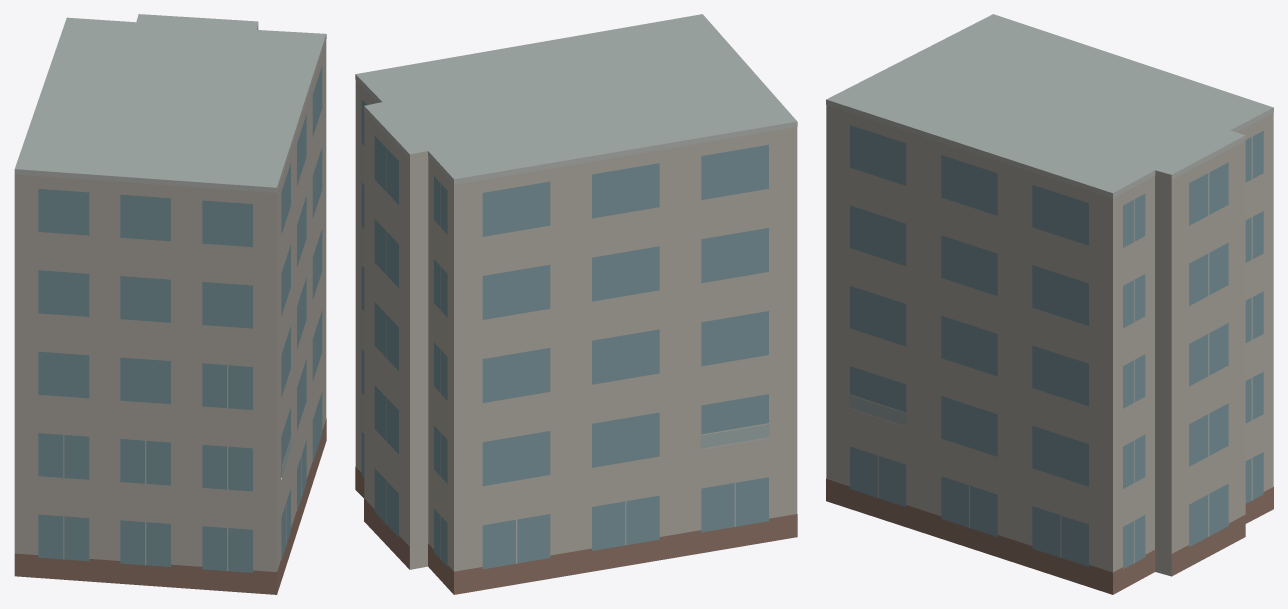
File: survey-upis-32907180.glb
3 views of the same model, side by side, from view 1: azimuth 30°, elevation 25°; view 2: azimuth 150°, elevation 25°; view 3: azimuth 270°, elevation 25° (orthographic). The views are drawn at different scales.
Visible parts, largest first — view 1: survey-upis-32907180.tmp; view 2: survey-upis-32907180.tmp; view 3: survey-upis-32907180.tmp.
Boxes of the visible parts, x1,y1,x2,y2 form: survey-upis-32907180.tmp: (14,14,326,594); survey-upis-32907180.tmp: (355,14,797,594); survey-upis-32907180.tmp: (826,14,1273,594).
Bounding box in the file's own units: 18.14 × 18.94 × 19.14.
